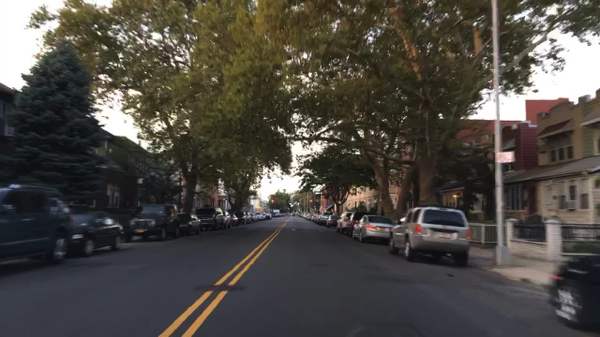car: (0, 184, 73, 268), (390, 207, 470, 267), (552, 252, 598, 331), (69, 211, 128, 258), (126, 201, 178, 242), (349, 215, 390, 244), (197, 205, 223, 232), (176, 211, 203, 235), (344, 212, 366, 235), (334, 213, 351, 235), (234, 210, 250, 225), (220, 210, 231, 229), (324, 216, 339, 229), (229, 214, 241, 228), (316, 215, 328, 227), (252, 212, 264, 222), (310, 216, 321, 225), (245, 214, 257, 222), (262, 213, 273, 220), (272, 209, 280, 218), (306, 215, 316, 220), (290, 211, 296, 216), (301, 212, 305, 219), (296, 213, 301, 218), (280, 212, 286, 216)
traffic light: (271, 199, 274, 205), (310, 199, 313, 205)
traffic sign: (496, 152, 514, 166)
